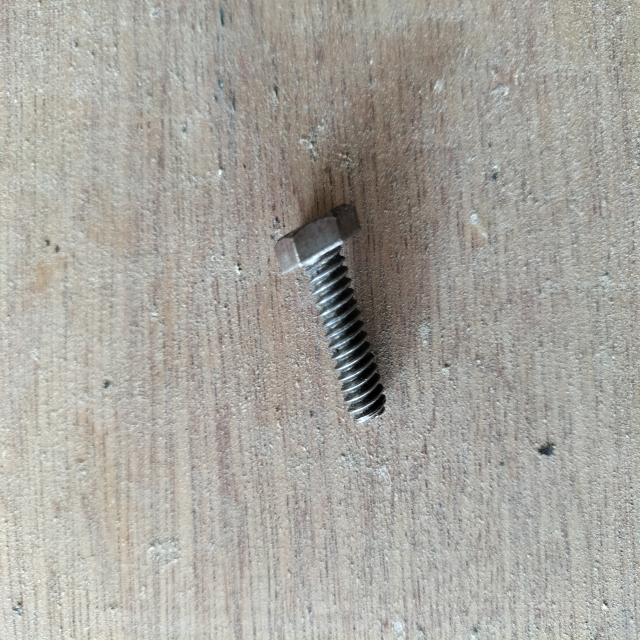bolt: (275, 203, 388, 424)
